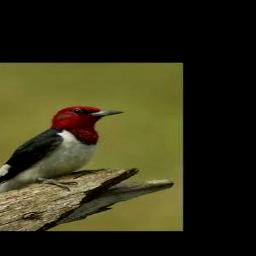Woodpecker: (0, 106, 125, 199)
